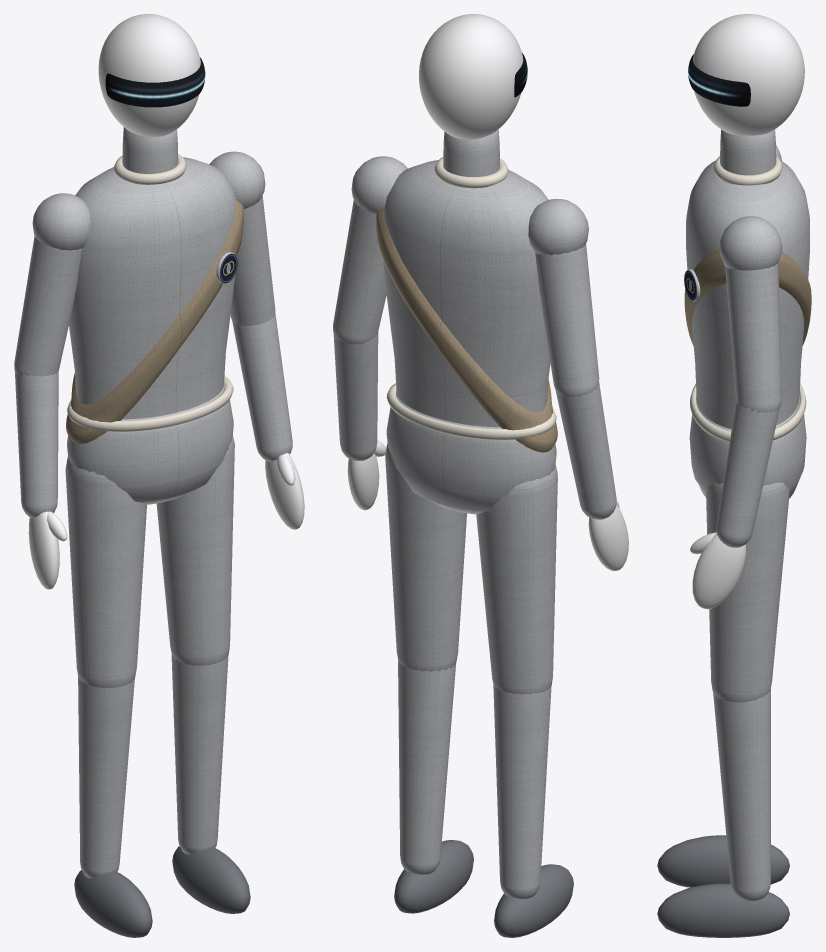
File: liaison.glb
3 renders of one model, left to right at view 1: azimuth 30°, elevation 25°; view 2: azimuth 150°, elevation 25°; view 3: azimuth 270°, elevation 25°, orthographic.
Visible parts, largest first — view 1: Avatar · Liaison; view 2: Avatar · Liaison; view 3: Avatar · Liaison.
Part boxes in pixels (x1,y1,x2,y2): Avatar · Liaison: [14, 14, 304, 937]; Avatar · Liaison: [333, 14, 628, 937]; Avatar · Liaison: [657, 14, 811, 937].
Size of the model in its own units: 0.5714 by 1.8 by 0.2839.
Materials: 7 (4 with a texture image).
